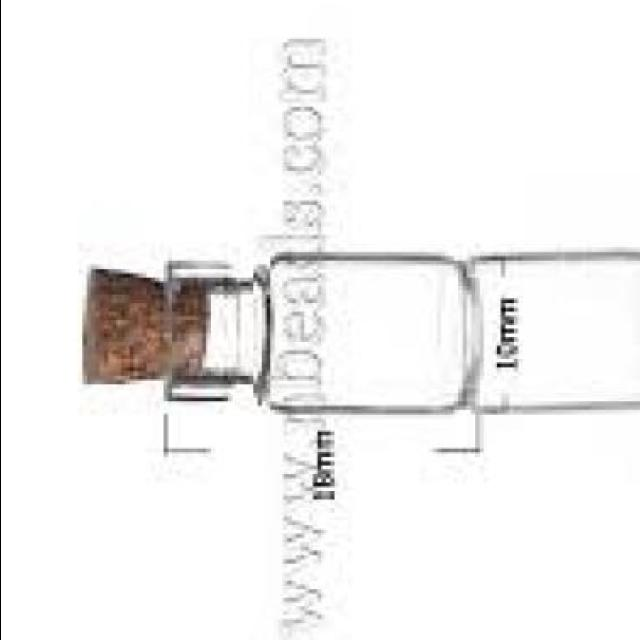kaca: (193, 256, 640, 414)
